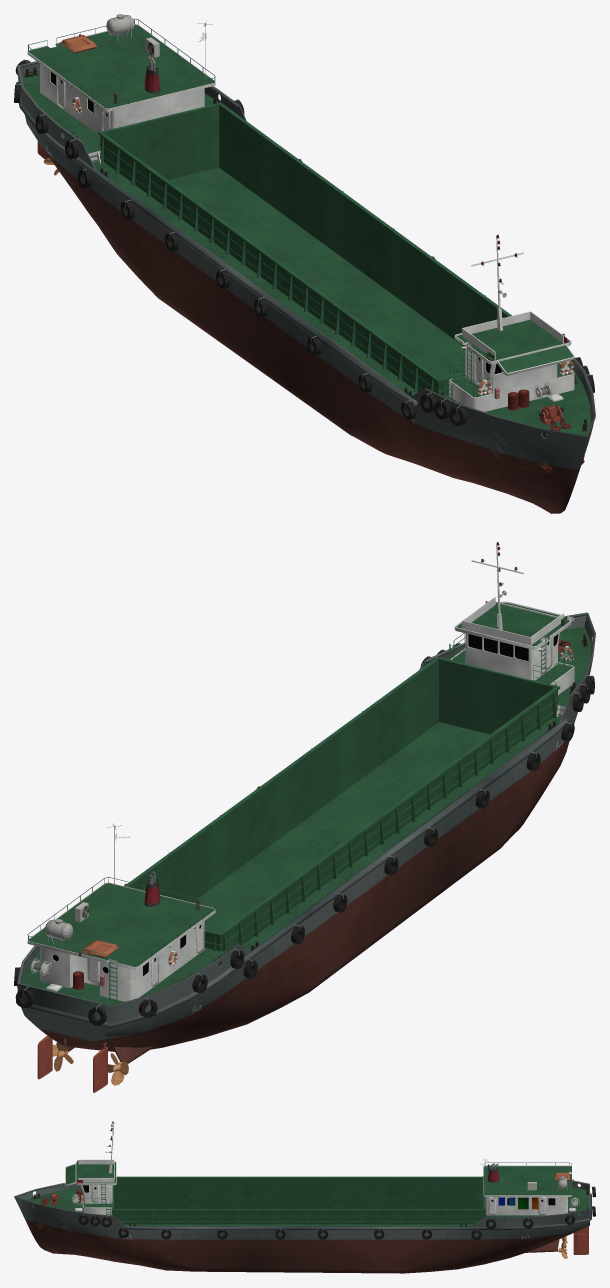
The picture shows the model from 3 angles, top to bottom: view 1: azimuth 30°, elevation 25°; view 2: azimuth 150°, elevation 25°; view 3: azimuth 270°, elevation 25°; orthographic projection. The views are drawn at different scales.
Visible parts, largest first — view 1: Obj3d66-11449237-39-743, Obj3d66-11449237-38-134, Obj3d66-11449237-35-136, Obj3d66-11449237-36-871, Obj3d66-11449237-2-503, Obj3d66-11449237-37-406, Obj3d66-11449237-13-106, Obj3d66-11449237-12-411, Obj3d66-11449237-5-228, Obj3d66-11449237-25-32; view 2: Obj3d66-11449237-38-134, Obj3d66-11449237-39-743, Obj3d66-11449237-35-136, Obj3d66-11449237-36-871, Obj3d66-11449237-2-503, Obj3d66-11449237-37-406, Obj3d66-11449237-15-375, Obj3d66-11449237-14-185, Obj3d66-11449237-12-411, Obj3d66-11449237-25-32, Obj3d66-11449237-5-228; view 3: Obj3d66-11449237-39-743, Obj3d66-11449237-38-134, Obj3d66-11449237-35-136, Obj3d66-11449237-36-871, Obj3d66-11449237-2-503, Obj3d66-11449237-25-32, Obj3d66-11449237-37-406, Obj3d66-11449237-14-185, Obj3d66-11449237-12-411, Obj3d66-11449237-4-759, Obj3d66-11449237-15-375, Obj3d66-11449237-5-228 (+1 smaller).
Boxes of the visible parts, x1,y1,x2,y2 form: Obj3d66-11449237-39-743: (16,61,595,513); Obj3d66-11449237-38-134: (98,102,511,395); Obj3d66-11449237-35-136: (27,24,215,136); Obj3d66-11449237-36-871: (449,319,574,411); Obj3d66-11449237-2-503: (14,59,594,425); Obj3d66-11449237-37-406: (100,137,444,396); Obj3d66-11449237-13-106: (497,344,574,375); Obj3d66-11449237-12-411: (462,311,563,359); Obj3d66-11449237-5-228: (27,19,574,397); Obj3d66-11449237-25-32: (57,76,483,384); Obj3d66-11449237-38-134: (124,656,560,951); Obj3d66-11449237-39-743: (16,612,595,1051); Obj3d66-11449237-35-136: (27,882,215,1001); Obj3d66-11449237-36-871: (450,601,574,694); Obj3d66-11449237-2-503: (14,643,594,1025); Obj3d66-11449237-37-406: (214,693,556,951); Obj3d66-11449237-15-375: (52,1042,155,1085); Obj3d66-11449237-14-185: (37,1035,107,1092); Obj3d66-11449237-12-411: (462,597,563,645); Obj3d66-11449237-25-32: (87,638,552,986); Obj3d66-11449237-5-228: (27,633,574,966); Obj3d66-11449237-39-743: (14,1176,591,1273); Obj3d66-11449237-38-134: (111,1176,485,1224); Obj3d66-11449237-35-136: (483,1165,571,1215); Obj3d66-11449237-36-871: (75,1161,116,1215); Obj3d66-11449237-2-503: (78,1186,595,1240); Obj3d66-11449237-25-32: (91,1185,546,1214); Obj3d66-11449237-37-406: (111,1211,485,1224); Obj3d66-11449237-14-185: (573,1226,588,1254); Obj3d66-11449237-12-411: (78,1159,114,1182); Obj3d66-11449237-4-759: (493,1197,541,1209); Obj3d66-11449237-15-375: (524,1236,567,1258); Obj3d66-11449237-5-228: (83,1162,571,1207).
Size of the model in its own units: 0.5301 by 0.6931 by 2.75.
1 material, 1 textured.
